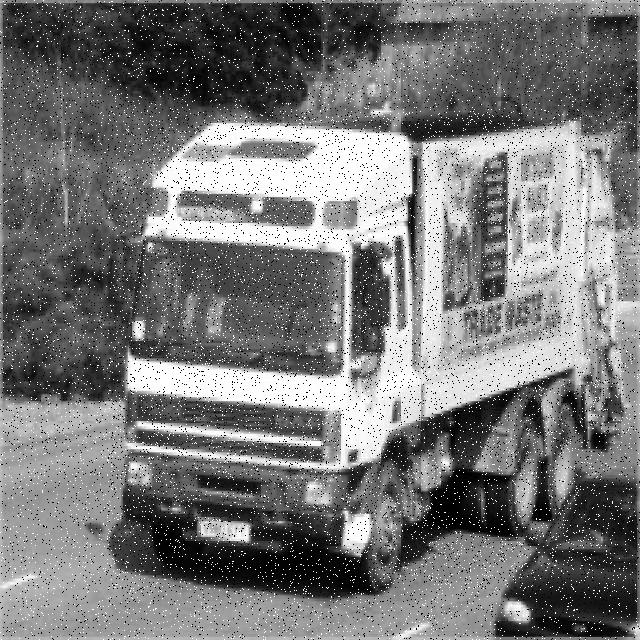Garbage Truck: (107, 111, 627, 595)
